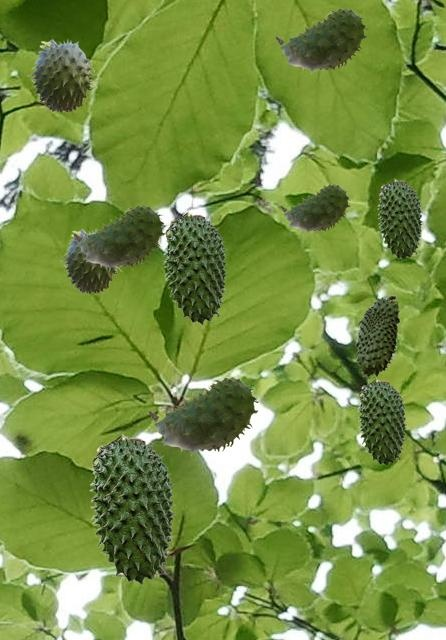guyabano: (89, 433, 175, 584), (148, 377, 257, 455), (163, 211, 227, 324), (73, 205, 164, 270), (275, 8, 366, 73), (27, 38, 100, 112), (357, 378, 406, 465), (60, 228, 122, 293), (377, 178, 422, 259), (355, 295, 399, 376), (280, 184, 349, 233)
